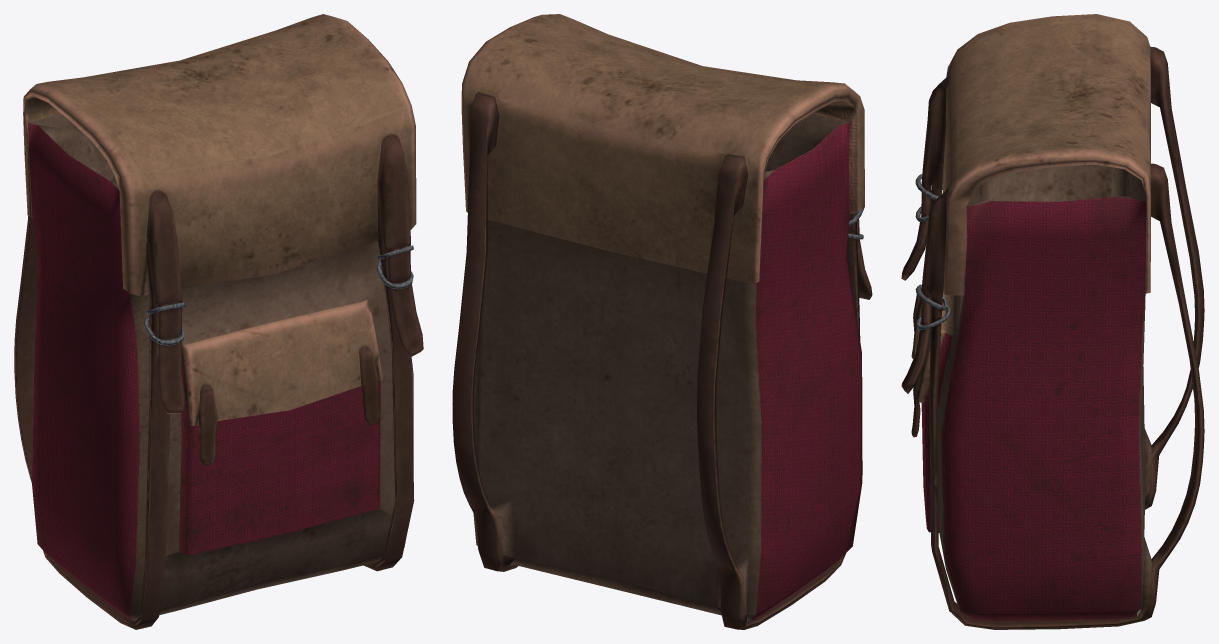
The model's file is KindledSpirits-Rucksack.fbx.
3 views of the same model, side by side, from view 1: azimuth 30°, elevation 25°; view 2: azimuth 150°, elevation 25°; view 3: azimuth 270°, elevation 25° (orthographic). The views are drawn at different scales.
Visible parts, largest first — view 1: Rucksack-LOD0; view 2: Rucksack-LOD0; view 3: Rucksack-LOD0.
Part boxes in pixels (x1=…): Rucksack-LOD0: x1=14, y1=14, x2=423, y2=629; Rucksack-LOD0: x1=452, y1=14, x2=872, y2=629; Rucksack-LOD0: x1=901, y1=14, x2=1204, y2=629.
Size of what is drawn, in the model's own units: 102 by 160 by 90.35.
